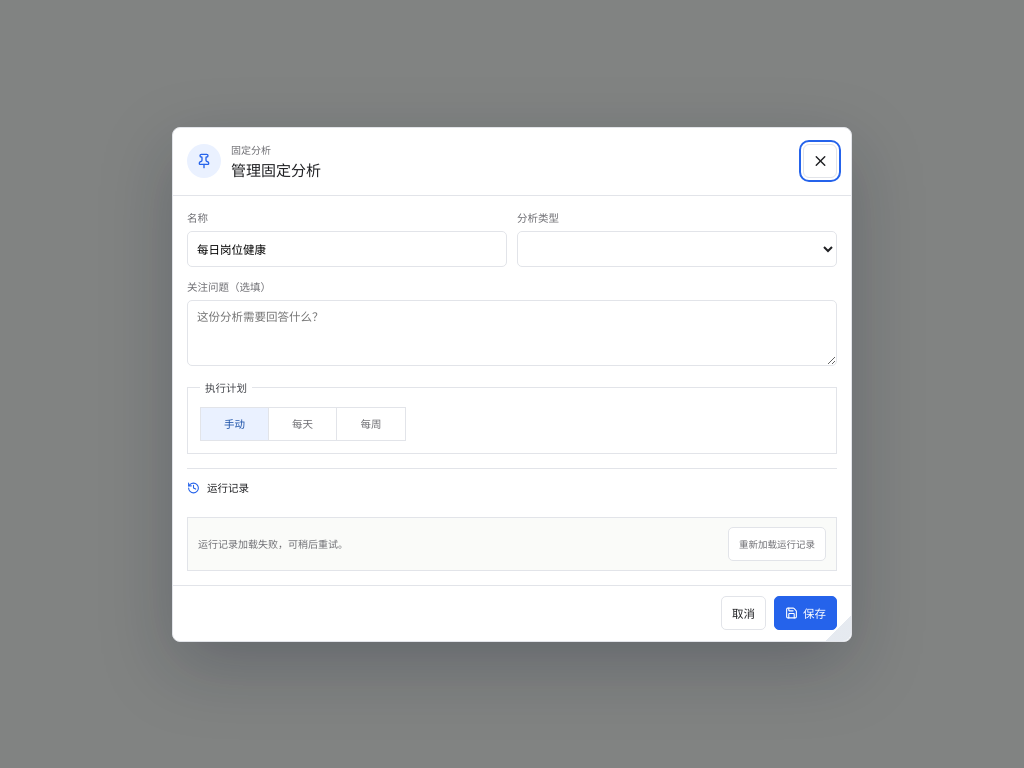
Analysis Template Dialog › 运行记录加载失败可原地重试
Expected: the text "运行记录加载失败，可稍后重试。" is shown, [198, 536, 348, 551]
Click the button "重新加载运行记录".
click(777, 544)  # box [728, 526, 826, 560]
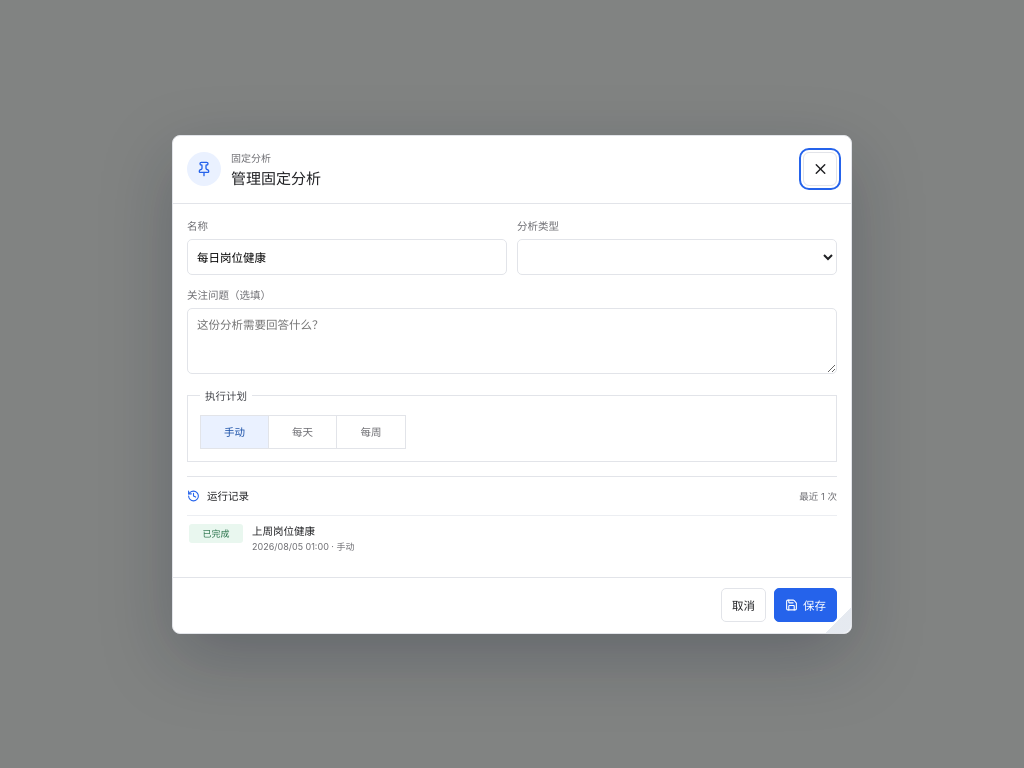
Result: the text "上周岗位健康" is shown at [252, 524, 315, 538]
